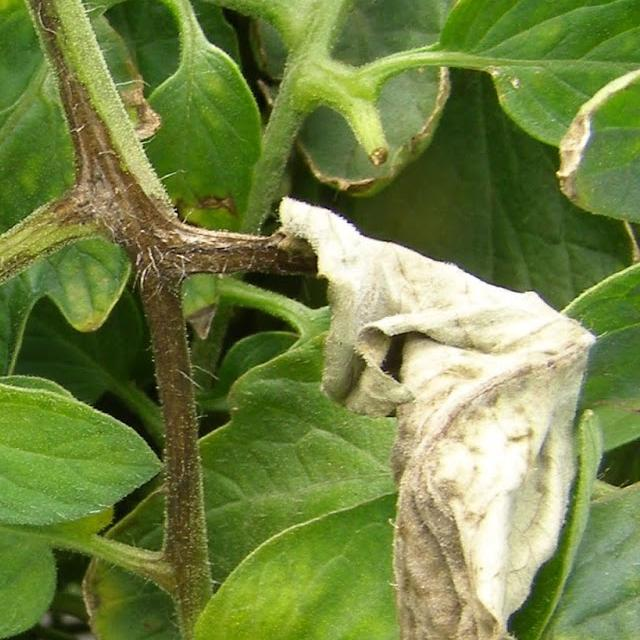Tomato mold leaf: (0, 347, 171, 538)
